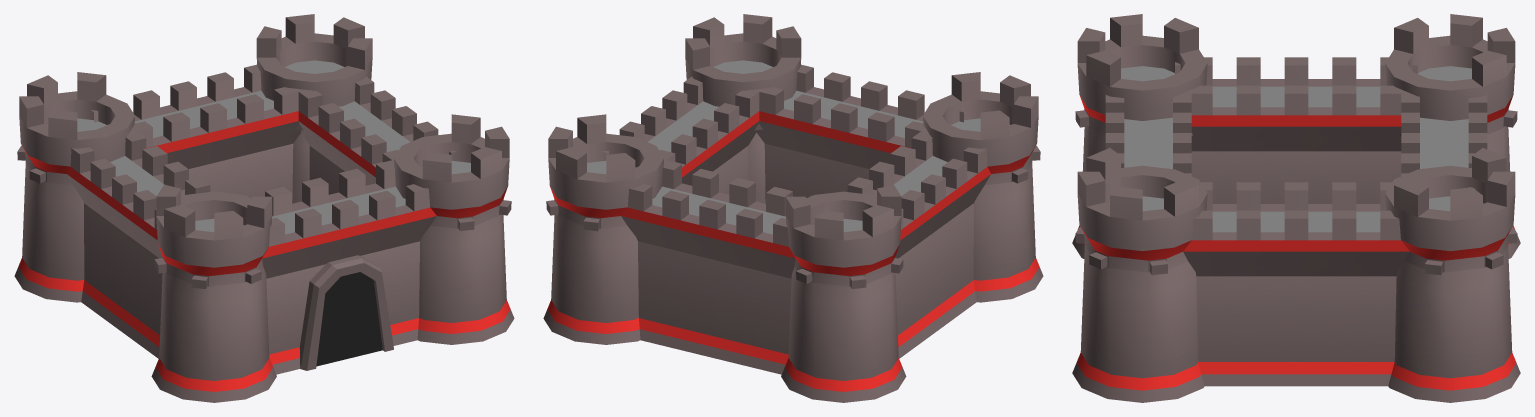
Rendered from castle_C_Enemy.fbx.
The picture shows the model from 3 angles, left to right: view 1: azimuth 30°, elevation 25°; view 2: azimuth 150°, elevation 25°; view 3: azimuth 270°, elevation 25°; orthographic projection. The views are drawn at different scales.
Visible parts, largest first — view 1: castle_C_Enemy; view 2: castle_C_Enemy; view 3: castle_C_Enemy.
Part boxes in pixels (x1,y1,x2,y2): castle_C_Enemy: (14,14,514,402); castle_C_Enemy: (543,14,1043,402); castle_C_Enemy: (1072,14,1520,402).
Bounding box in the file's own units: 14.58 × 7.23 × 14.58.
